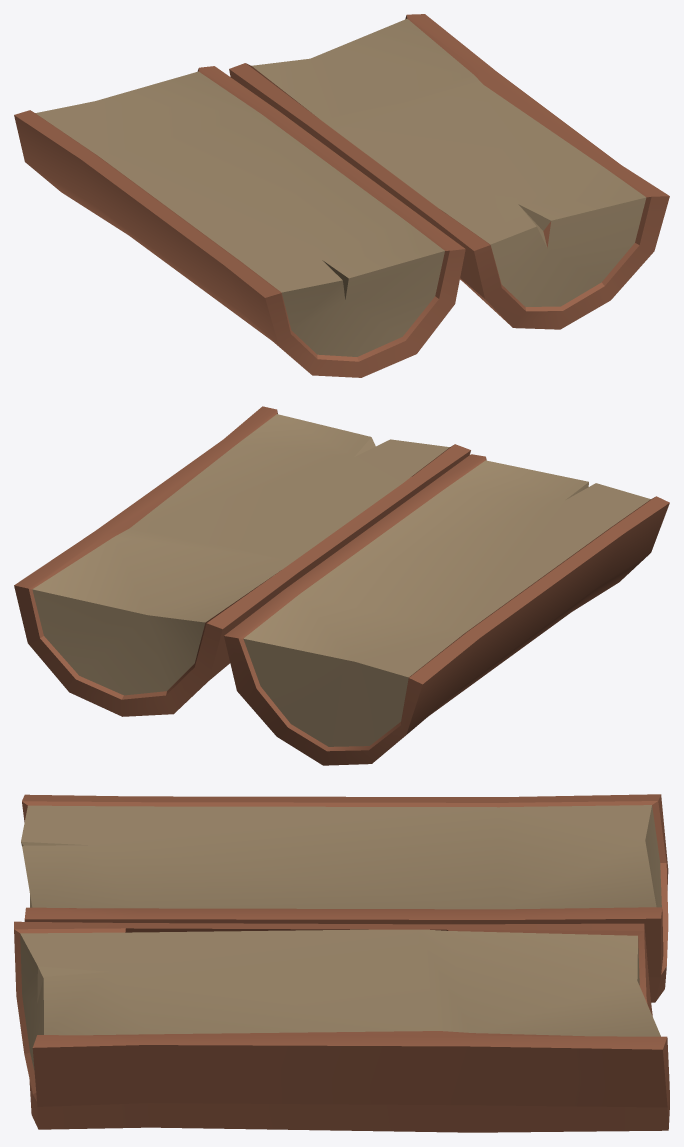
File: LightWoodFloorSmall2BeamPlatform1.fbx
3 views of the same model, one above another, from view 1: azimuth 30°, elevation 25°; view 2: azimuth 150°, elevation 25°; view 3: azimuth 270°, elevation 25° (orthographic). The views are drawn at different scales.
Parts seen in each view (by area): view 1: LightWoodFloorSmall2BeamPlatform1; view 2: LightWoodFloorSmall2BeamPlatform1; view 3: LightWoodFloorSmall2BeamPlatform1.
Part boxes in pixels (left/top/right/bottom): LightWoodFloorSmall2BeamPlatform1: left=14, top=14, right=669, bottom=377; LightWoodFloorSmall2BeamPlatform1: left=14, top=406, right=669, bottom=765; LightWoodFloorSmall2BeamPlatform1: left=14, top=794, right=669, bottom=1132.
Bounding box in the file's own units: 197 × 49.59 × 214.
